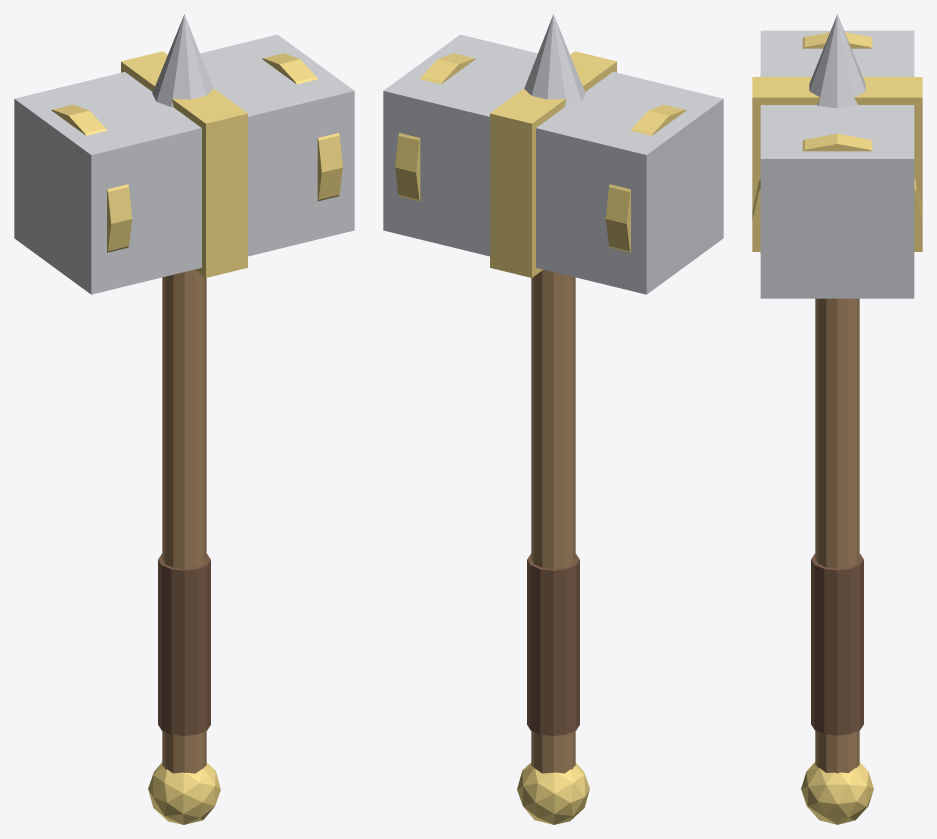
File: hammer.glb
The picture shows the model from 3 angles, left to right: view 1: azimuth 30°, elevation 25°; view 2: azimuth 150°, elevation 25°; view 3: azimuth 270°, elevation 25°; orthographic projection.
Parts seen in each view (by area): view 1: Kopf, Stiel, Ring_mitte, Griffband, Knauf, Spitze, Ring_rechts, Ring_links; view 2: Kopf, Stiel, Ring_mitte, Griffband, Knauf, Spitze, Ring_rechts, Ring_links; view 3: Kopf, Stiel, Griffband, Ring_mitte, Knauf, Spitze, Ring_rechts, Ring_links.
Boxes of the visible parts, box(x1,y1,x2,y2) form: Kopf: box(14, 34, 354, 294); Stiel: box(162, 269, 206, 773); Ring_mitte: box(121, 51, 247, 277); Griffband: box(158, 554, 210, 735); Knauf: box(148, 762, 220, 824); Spitze: box(152, 14, 213, 107); Ring_rechts: box(262, 53, 342, 201); Ring_links: box(51, 104, 132, 252); Kopf: box(383, 34, 723, 294); Stiel: box(531, 269, 575, 773); Ring_mitte: box(490, 51, 616, 277); Griffband: box(527, 554, 579, 735); Knauf: box(517, 762, 589, 824); Spitze: box(524, 14, 585, 107); Ring_rechts: box(395, 53, 475, 201); Ring_links: box(605, 104, 686, 252); Kopf: box(760, 30, 914, 298); Stiel: box(815, 298, 859, 773); Griffband: box(811, 554, 863, 735); Ring_mitte: box(752, 77, 922, 251); Knauf: box(801, 762, 873, 824); Spitze: box(809, 14, 865, 108); Ring_rechts: box(752, 133, 922, 252); Ring_links: box(760, 32, 914, 76).
Bounding box in the file's own units: 0.75 × 2.2 × 0.42.
